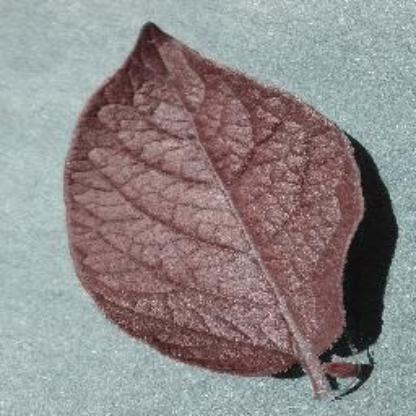Healthy-plant: (57, 21, 390, 385)
